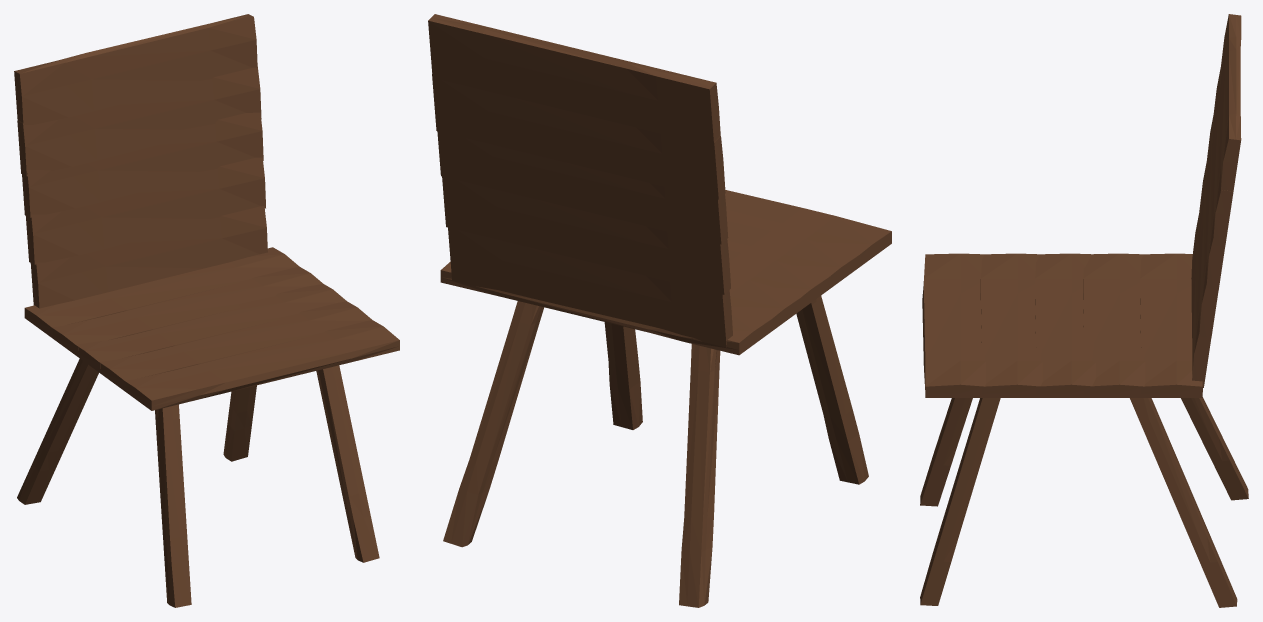
File: Stuhl.fbx
3 renders of one model, left to right at view 1: azimuth 30°, elevation 25°; view 2: azimuth 150°, elevation 25°; view 3: azimuth 270°, elevation 25°, orthographic. The views are drawn at different scales.
Parts seen in each view (by area): view 1: Holzi_7_2, Holzi_2_2, Holzi_6_2, Holzi_5_2, Holzi_32_2, Holzi_32, Holzi_2, Holzi_6, Holzi_7, Holzi_5, Bein_III, Bein_II (+2 smaller); view 2: Holzi_7_2, Holzi_6_2, Holzi_2_2, Holzi_32_2, Holzi_5_2, Bein_I, Bein, Bein_III, Holzi_32, Holzi_2, Holzi_7, Bein_II (+2 smaller); view 3: Holzi_32, Holzi_2, Holzi_6, Holzi_7, Holzi_5, Bein, Bein_II, Holzi_7_2, Bein_III, Bein_I, Holzi_6_2, Holzi_2_2 (+2 smaller).
Part boxes in pixels (x1,y1,x2,y2): Holzi_7_2: (14,14,257,124); Holzi_2_2: (26,157,265,264); Holzi_6_2: (17,67,261,176); Holzi_5_2: (22,112,263,217); Holzi_32_2: (30,206,267,308); Holzi_32: (123,320,399,410); Holzi_2: (97,301,371,391); Holzi_6: (50,266,323,356); Holzi_7: (24,247,299,338); Holzi_5: (72,284,346,373); Bein_III: (155,404,191,607); Bein_II: (316,365,379,562); Holzi_7_2: (428,14,720,146); Holzi_6_2: (432,74,725,199); Holzi_2_2: (442,176,730,294); Holzi_32_2: (448,227,732,347); Holzi_5_2: (437,131,728,244); Bein_I: (679,344,720,607); Bein: (443,301,544,547); Bein_III: (796,295,868,484); Holzi_32: (725,190,891,267); Holzi_2: (727,220,860,288); Holzi_7: (440,261,772,355); Bein_II: (604,322,642,429); Holzi_32: (922,253,986,397); Holzi_2: (980,253,1042,397); Holzi_6: (1083,253,1145,397); Holzi_7: (1140,253,1202,397); Holzi_5: (1035,253,1096,397); Bein: (1130,398,1237,607); Bein_II: (920,398,1000,605); Holzi_7_2: (1219,14,1241,191); Bein_III: (920,398,972,506); Bein_I: (1181,397,1248,500); Holzi_6_2: (1212,69,1233,246); Holzi_2_2: (1198,163,1218,337).
Bounding box in the file's own units: 240 × 405 × 252.
